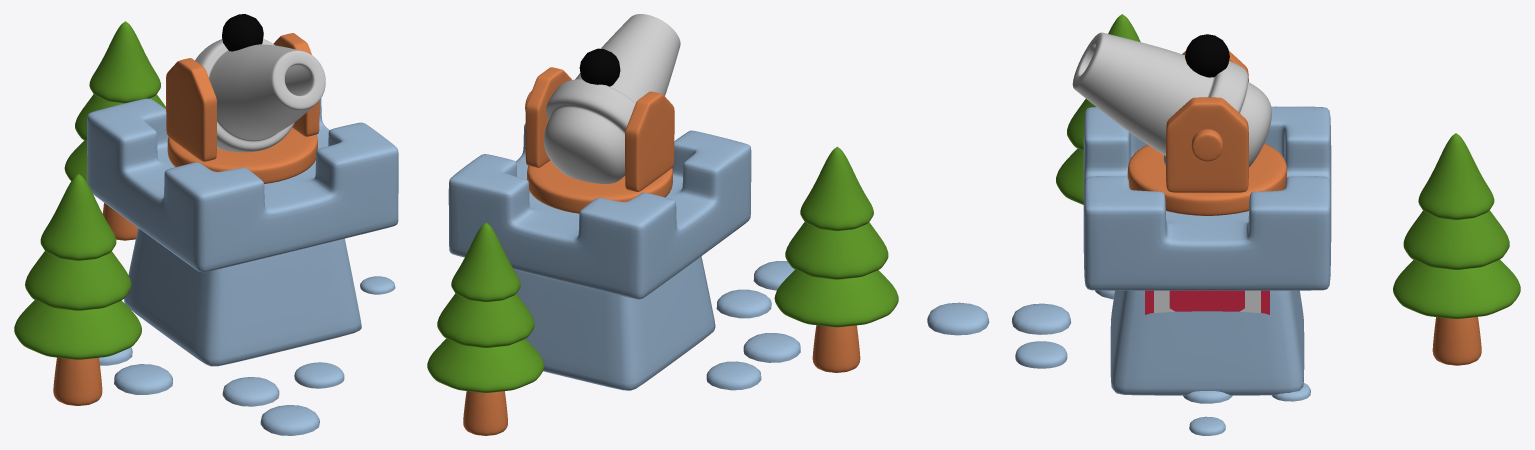
Rendered from Tower_Modifier.gltf.
The picture shows the model from 3 angles, left to right: view 1: azimuth 30°, elevation 25°; view 2: azimuth 150°, elevation 25°; view 3: azimuth 270°, elevation 25°; orthographic projection. The views are drawn at different scales.
Parts seen in each view (by area): view 1: Plane.001, Cone, Cylinder, Cone.001, Plane.004, Circle, Plane.011, Plane.019, Plane.003, Roundcube.001, Plane.006, Plane.014; view 2: Plane.001, Cone, Cone.001, Cylinder, Plane.004, Circle, Plane.019, Plane.003, Plane.015, Roundcube.001, Plane.011; view 3: Plane.001, Cone.001, Cylinder, Plane.004, Circle, Plane.002, Cone, Plane.011, Plane.003, Roundcube.001, Plane.006, Plane.014.
Boxes of the visible parts, x1,y1,x2,y2 form: Plane.001: [87, 98, 398, 366]; Cone: [14, 174, 141, 405]; Cylinder: [195, 39, 325, 152]; Cone.001: [64, 21, 165, 240]; Plane.004: [166, 33, 319, 161]; Circle: [167, 127, 317, 183]; Plane.011: [260, 405, 319, 435]; Plane.019: [114, 364, 172, 394]; Plane.003: [222, 377, 279, 406]; Roundcube.001: [222, 14, 263, 51]; Plane.006: [294, 362, 344, 388]; Plane.014: [360, 276, 395, 294]; Plane.001: [448, 123, 751, 390]; Cone: [774, 146, 898, 372]; Cone.001: [427, 222, 544, 435]; Cylinder: [544, 14, 680, 183]; Plane.004: [525, 67, 674, 191]; Circle: [527, 160, 672, 213]; Plane.019: [743, 333, 800, 362]; Plane.003: [716, 289, 771, 318]; Plane.015: [706, 361, 761, 390]; Roundcube.001: [579, 48, 620, 86]; Plane.011: [753, 261, 794, 290]; Plane.001: [1083, 106, 1331, 395]; Cone.001: [1393, 133, 1520, 365]; Cylinder: [1072, 32, 1271, 167]; Plane.004: [1166, 51, 1248, 192]; Circle: [1127, 143, 1286, 215]; Plane.002: [1145, 290, 1269, 314]; Cone: [1056, 14, 1140, 204]; Plane.011: [927, 302, 989, 335]; Plane.003: [1011, 303, 1071, 334]; Roundcube.001: [1185, 34, 1229, 77]; Plane.006: [1015, 341, 1067, 368]; Plane.014: [1189, 416, 1225, 435].
Bounding box in the file's own units: 6.01 × 4.28 × 7.13.
